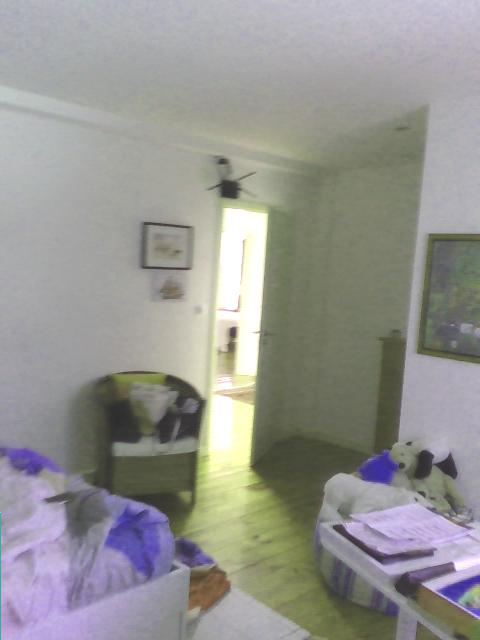semi_door: (194, 197, 320, 469)
